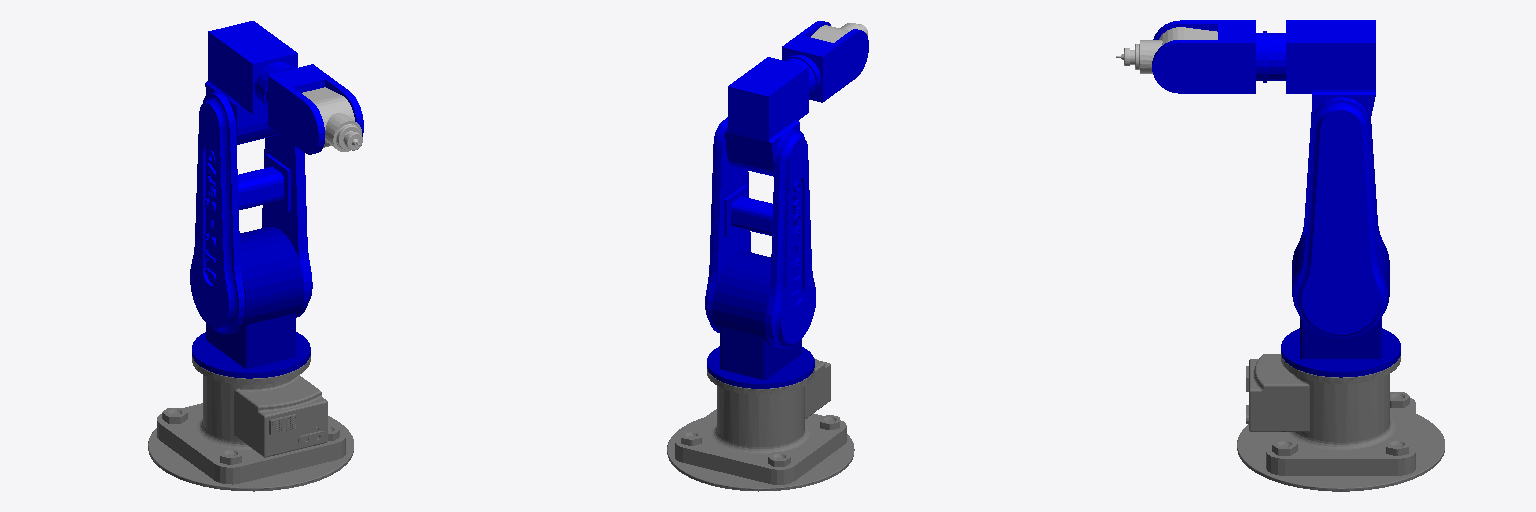
robot.urdf — robotAssem3.SLDASM:
<?xml version="1.0" encoding="utf-8"?>
<!-- This URDF was automatically created by SolidWorks to URDF Exporter! Originally created by [author] ([email redacted]) 
     Commit Version: 1.6.0-4-g7f85cfe  Build Version: 1.6.7995.38578
     For more information, please see http://wiki.ros.org/sw_urdf_exporter -->
<robot
  name="robotAssem3.SLDASM">
  <link
    name="base_link">
    <inertial>
      <origin
        xyz="-1.6593E-05 -0.031662 0.093316"
        rpy="0 0 0" />
      <mass
        value="20.083" />
      <inertia
        ixx="0.42632"
        ixy="-7.2109E-05"
        ixz="6.527E-05"
        iyy="0.34042"
        iyz="0.041444"
        izz="0.50046" />
    </inertial>
    <visual>
      <origin
        xyz="0 0 0"
        rpy="0 0 0" />
      <geometry>
        <mesh
          filename="package://robotAssem3.SLDASM/meshes/base_link.STL" />
      </geometry>
      <material
        name="">
        <color
          rgba="0.50196 0.50196 0.50196 1" />
      </material>
    </visual>
    <collision>
      <origin
        xyz="0 0 0"
        rpy="0 0 0" />
      <geometry>
        <mesh
          filename="package://robotAssem3.SLDASM/meshes/base_link.STL" />
      </geometry>
    </collision>
  </link>
  <link
    name="link_1">
    <inertial>
      <origin
        xyz="-1.5626E-10 -0.21308 -2.605E-17"
        rpy="0 0 0" />
      <mass
        value="14.515" />
      <inertia
        ixx="0.28139"
        ixy="1.2685E-09"
        ixz="-1.2578E-09"
        iyy="0.10949"
        iyz="-2.6483E-17"
        izz="0.30806" />
    </inertial>
    <visual>
      <origin
        xyz="0 0 0"
        rpy="0 0 0" />
      <geometry>
        <mesh
          filename="package://robotAssem3.SLDASM/meshes/link_1.STL" />
      </geometry>
      <material
        name="">
        <color
          rgba="0 0 0.75294 1" />
      </material>
    </visual>
    <collision>
      <origin
        xyz="0 0 0"
        rpy="0 0 0" />
      <geometry>
        <mesh
          filename="package://robotAssem3.SLDASM/meshes/link_1.STL" />
      </geometry>
    </collision>
  </link>
  <joint
    name="joint_1"
    type="revolute">
    <origin
      xyz="0 0 0.16"
      rpy="-1.5708 0 -1.5708" />
    <parent
      link="base_link" />
    <child
      link="link_1" />
    <axis
      xyz="0 -1 0" />
    <limit
      lower="0"
      upper="3.142"
      effort="300"
      velocity="3" />
  </joint>
  <link
    name="link_2">
    <inertial>
      <origin
        xyz="1.6328E-05 -0.188 0.0020097"
        rpy="0 0 0" />
      <mass
        value="14.649" />
      <inertia
        ixx="0.70238"
        ixy="2.0043E-05"
        ixz="3.0384E-05"
        iyy="0.15114"
        iyz="0.00097585"
        izz="0.61205" />
    </inertial>
    <visual>
      <origin
        xyz="0 0 0"
        rpy="0 0 0" />
      <geometry>
        <mesh
          filename="package://robotAssem3.SLDASM/meshes/link_2.STL" />
      </geometry>
      <material
        name="">
        <color
          rgba="0 0 1 1" />
      </material>
    </visual>
    <collision>
      <origin
        xyz="0 0 0"
        rpy="0 0 0" />
      <geometry>
        <mesh
          filename="package://robotAssem3.SLDASM/meshes/link_2.STL" />
      </geometry>
    </collision>
  </link>
  <joint
    name="joint_2"
    type="revolute">
    <origin
      xyz="0 -0.336 0"
      rpy="0 0 0" />
    <parent
      link="link_1" />
    <child
      link="link_2" />
    <axis
      xyz="0 0 -1" />
    <limit
      lower="-1.57"
      upper="1.57"
      effort="200"
      velocity="3" />
  </joint>
  <link
    name="link_3">
    <inertial>
      <origin
        xyz="0.13618 -0.12117 -0.01"
        rpy="0 0 0" />
      <mass
        value="12.052" />
      <inertia
        ixx="0.075189"
        ixy="0.039895"
        ixz="6.7674E-17"
        iyy="0.33838"
        iyz="-1.4461E-17"
        izz="0.37071" />
    </inertial>
    <visual>
      <origin
        xyz="0 0 0"
        rpy="0 0 0" />
      <geometry>
        <mesh
          filename="package://robotAssem3.SLDASM/meshes/link_3.STL" />
      </geometry>
      <material
        name="">
        <color
          rgba="0 0 1 1" />
      </material>
    </visual>
    <collision>
      <origin
        xyz="0 0 0"
        rpy="0 0 0" />
      <geometry>
        <mesh
          filename="package://robotAssem3.SLDASM/meshes/link_3.STL" />
      </geometry>
    </collision>
  </link>
  <joint
    name="joint_3"
    type="revolute">
    <origin
      xyz="0 -0.5 0"
      rpy="0 0 0" />
    <parent
      link="link_2" />
    <child
      link="link_3" />
    <axis
      xyz="0 0 -1" />
    <limit
      lower="0"
      upper="3.142"
      effort="200"
      velocity="3" />
  </joint>
  <link
    name="link_4">
    <inertial>
      <origin
        xyz="-0.04925 -1.9686E-08 0.01"
        rpy="0 0 0" />
      <mass
        value="2.2191" />
      <inertia
        ixx="0.0039987"
        ixy="9.2335E-09"
        ixz="-6.2778E-09"
        iyy="0.019571"
        iyz="-3.7295E-09"
        izz="0.020194" />
    </inertial>
    <visual>
      <origin
        xyz="0 0 0"
        rpy="0 0 0" />
      <geometry>
        <mesh
          filename="package://robotAssem3.SLDASM/meshes/link_4.STL" />
      </geometry>
      <material
        name="">
        <color
          rgba="0.75294 0.75294 0.75294 1" />
      </material>
    </visual>
    <collision>
      <origin
        xyz="0 0 0"
        rpy="0 0 0" />
      <geometry>
        <mesh
          filename="package://robotAssem3.SLDASM/meshes/link_4.STL" />
      </geometry>
    </collision>
  </link>
  <joint
    name="link_5"
    type="revolute">
    <origin
      xyz="0.42746 -0.145 0"
      rpy="3.1416 0 -0.0025668" />
    <parent
      link="link_3" />
    <child
      link="link_4" />
    <axis
      xyz="0 0 1" />
    <limit
      lower="0"
      upper="3.142"
      effort="200"
      velocity="3" />
  </joint>
</robot>

--- What the picture shows (computed from the rendered views, not written in the file) ---
The picture shows the robot from 3 angles, left to right: view 1: azimuth 30°, elevation 25°; view 2: azimuth 150°, elevation 25°; view 3: azimuth 270°, elevation 25°; orthographic projection.
Model robotAssem3.SLDASM with 5 links and 4 joints (4 revolute), rooted at base_link, posed all joints at 0.
Visible links, largest first — view 1: base_link, link_2, link_3, link_1, link_4; view 2: base_link, link_2, link_3, link_1, link_4; view 3: base_link, link_2, link_3, link_1, link_4.
Boxes of the visible links, box(x1,y1,x2,y2) form: base_link: box(148, 356, 353, 491); link_2: box(190, 92, 312, 334); link_3: box(205, 21, 363, 154); link_1: box(192, 227, 310, 378); link_4: box(302, 87, 362, 151); base_link: box(667, 358, 854, 491); link_2: box(705, 117, 815, 348); link_3: box(725, 21, 868, 176); link_1: box(707, 251, 814, 388); link_4: box(811, 23, 867, 42); base_link: box(1237, 354, 1444, 491); link_2: box(1294, 97, 1387, 337); link_3: box(1152, 20, 1375, 124); link_1: box(1281, 234, 1400, 377); link_4: box(1116, 27, 1217, 73).
Size in the robot's own frame: 0.555 by 0.8802 by 1.22 metres.
5 mesh visuals loaded from 5 distinct referenced files (5 binary STL).